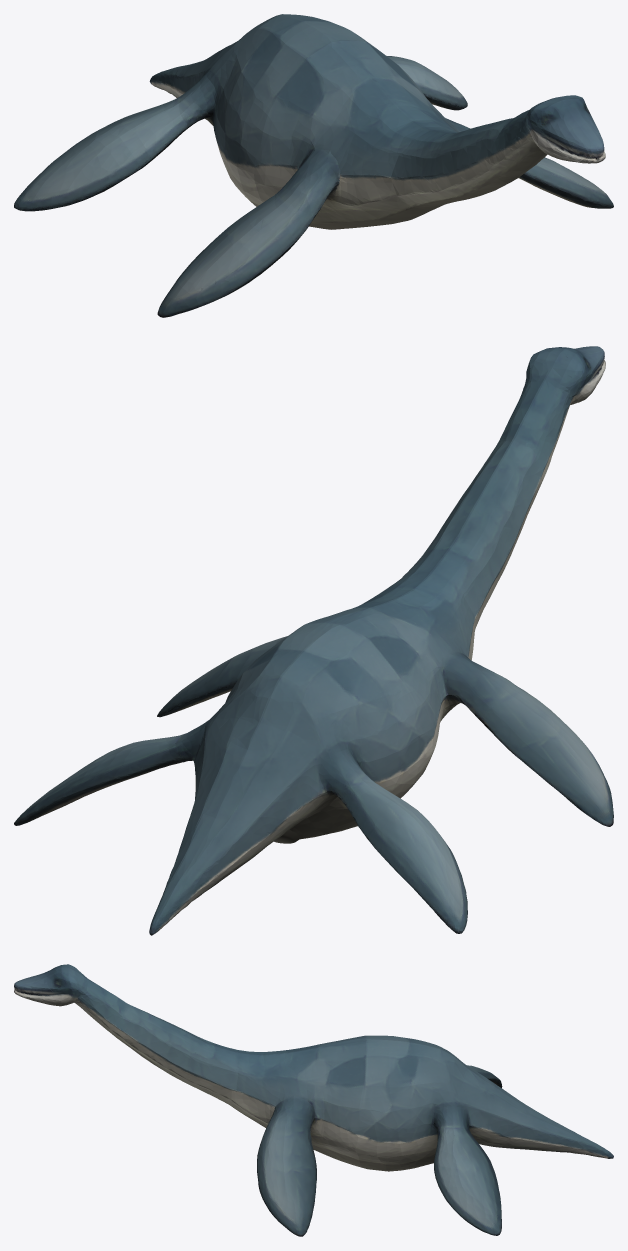
3 views of the same model, one above another, from view 1: azimuth 30°, elevation 25°; view 2: azimuth 150°, elevation 25°; view 3: azimuth 270°, elevation 25° (orthographic). The views are drawn at different scales.
Visible parts, largest first — view 1: world; view 2: world; view 3: world.
Part boxes in pixels (bbox=[...]): world: bbox=[14, 14, 613, 317]; world: bbox=[14, 346, 613, 935]; world: bbox=[14, 964, 613, 1236].
Bounding box in the file's own units: 3.21 × 1.99 × 5.5.
2 materials, 1 textured.
